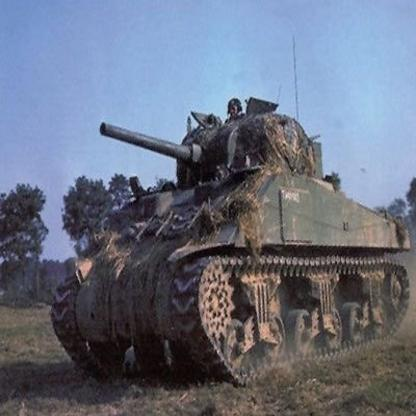Tank: (49, 100, 412, 381)
